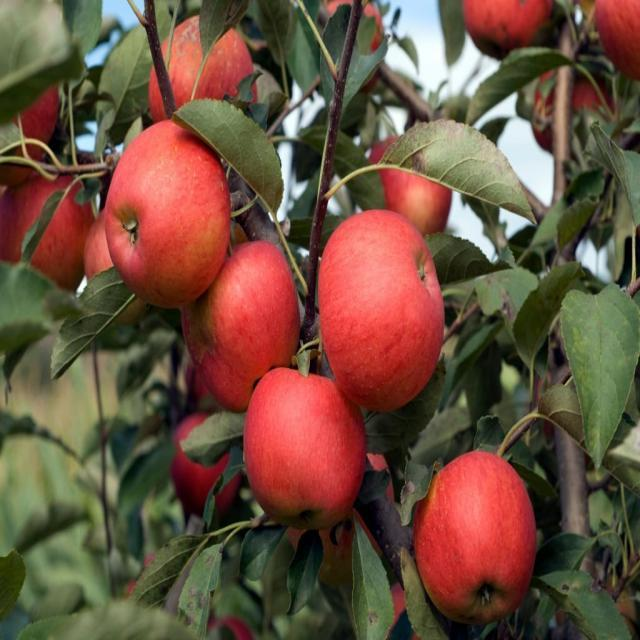Red Apple: (315, 215, 456, 410), (111, 114, 230, 293), (251, 365, 367, 524), (421, 452, 539, 608), (183, 230, 298, 383), (152, 18, 271, 136), (3, 158, 97, 287), (371, 134, 460, 242), (320, 444, 396, 558), (79, 203, 142, 330), (173, 410, 243, 509), (538, 58, 608, 157), (325, 2, 391, 98), (465, 1, 559, 67), (589, 1, 640, 86), (16, 82, 67, 155), (390, 590, 419, 639), (215, 608, 245, 640)
